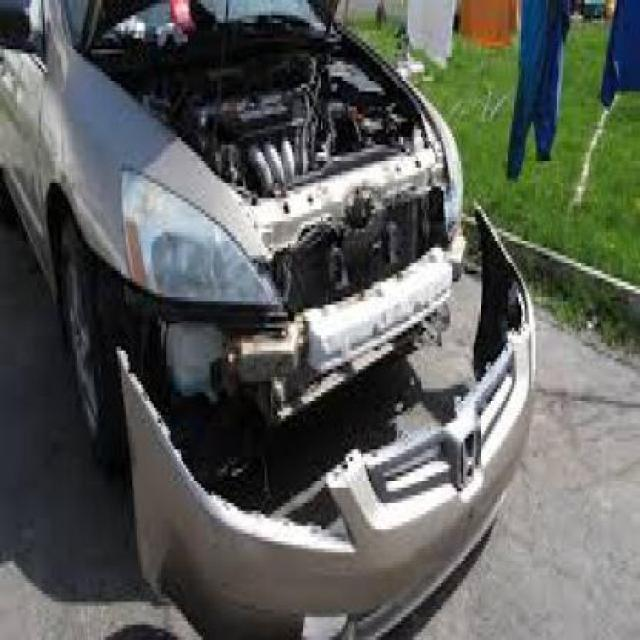damaged-front-bumper: (103, 303, 520, 639)
